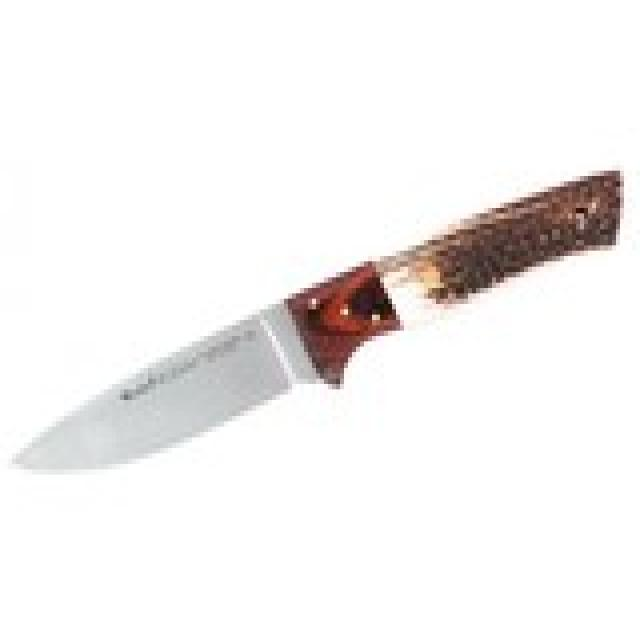Knife: (11, 160, 626, 490)
